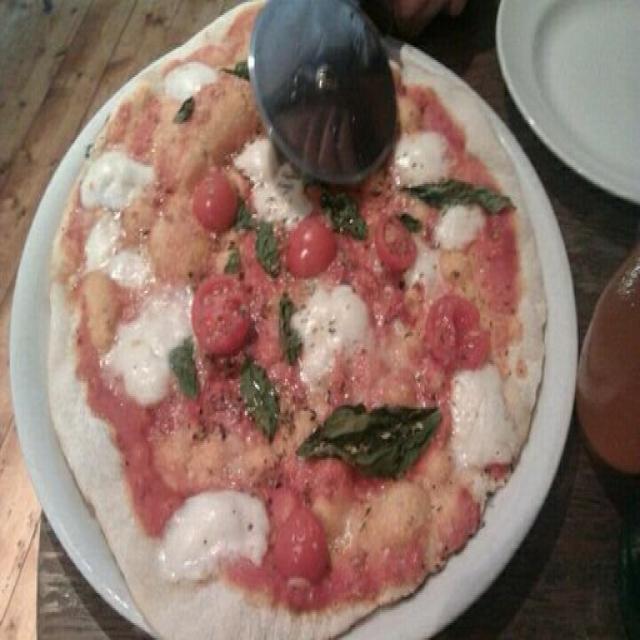Basil: (299, 405, 441, 479), (406, 178, 514, 214), (241, 358, 279, 441), (321, 190, 366, 240), (170, 338, 199, 398), (280, 293, 301, 364), (256, 221, 280, 276), (224, 60, 250, 80), (237, 199, 254, 229), (174, 99, 194, 122), (400, 214, 421, 231), (224, 251, 239, 272)
Pizza: (51, 6, 545, 636)
Tomato: (426, 295, 489, 370), (192, 276, 250, 357), (275, 509, 329, 582), (288, 214, 338, 278), (192, 169, 236, 231), (376, 216, 415, 272)
